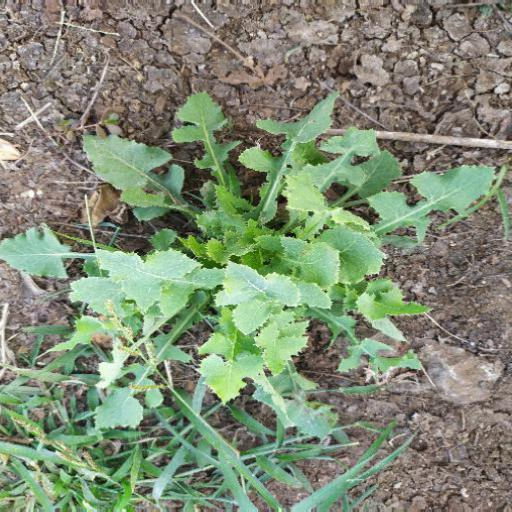weed: (30, 109, 493, 430)
